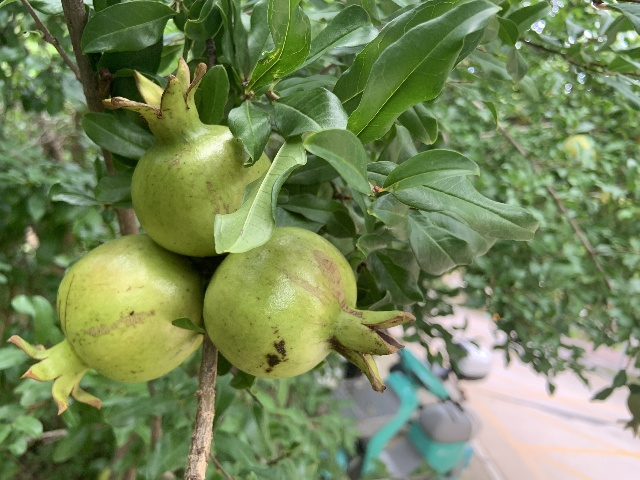mid-growth: (6, 234, 206, 414), (205, 226, 417, 394), (103, 54, 267, 256), (623, 392, 640, 438)
